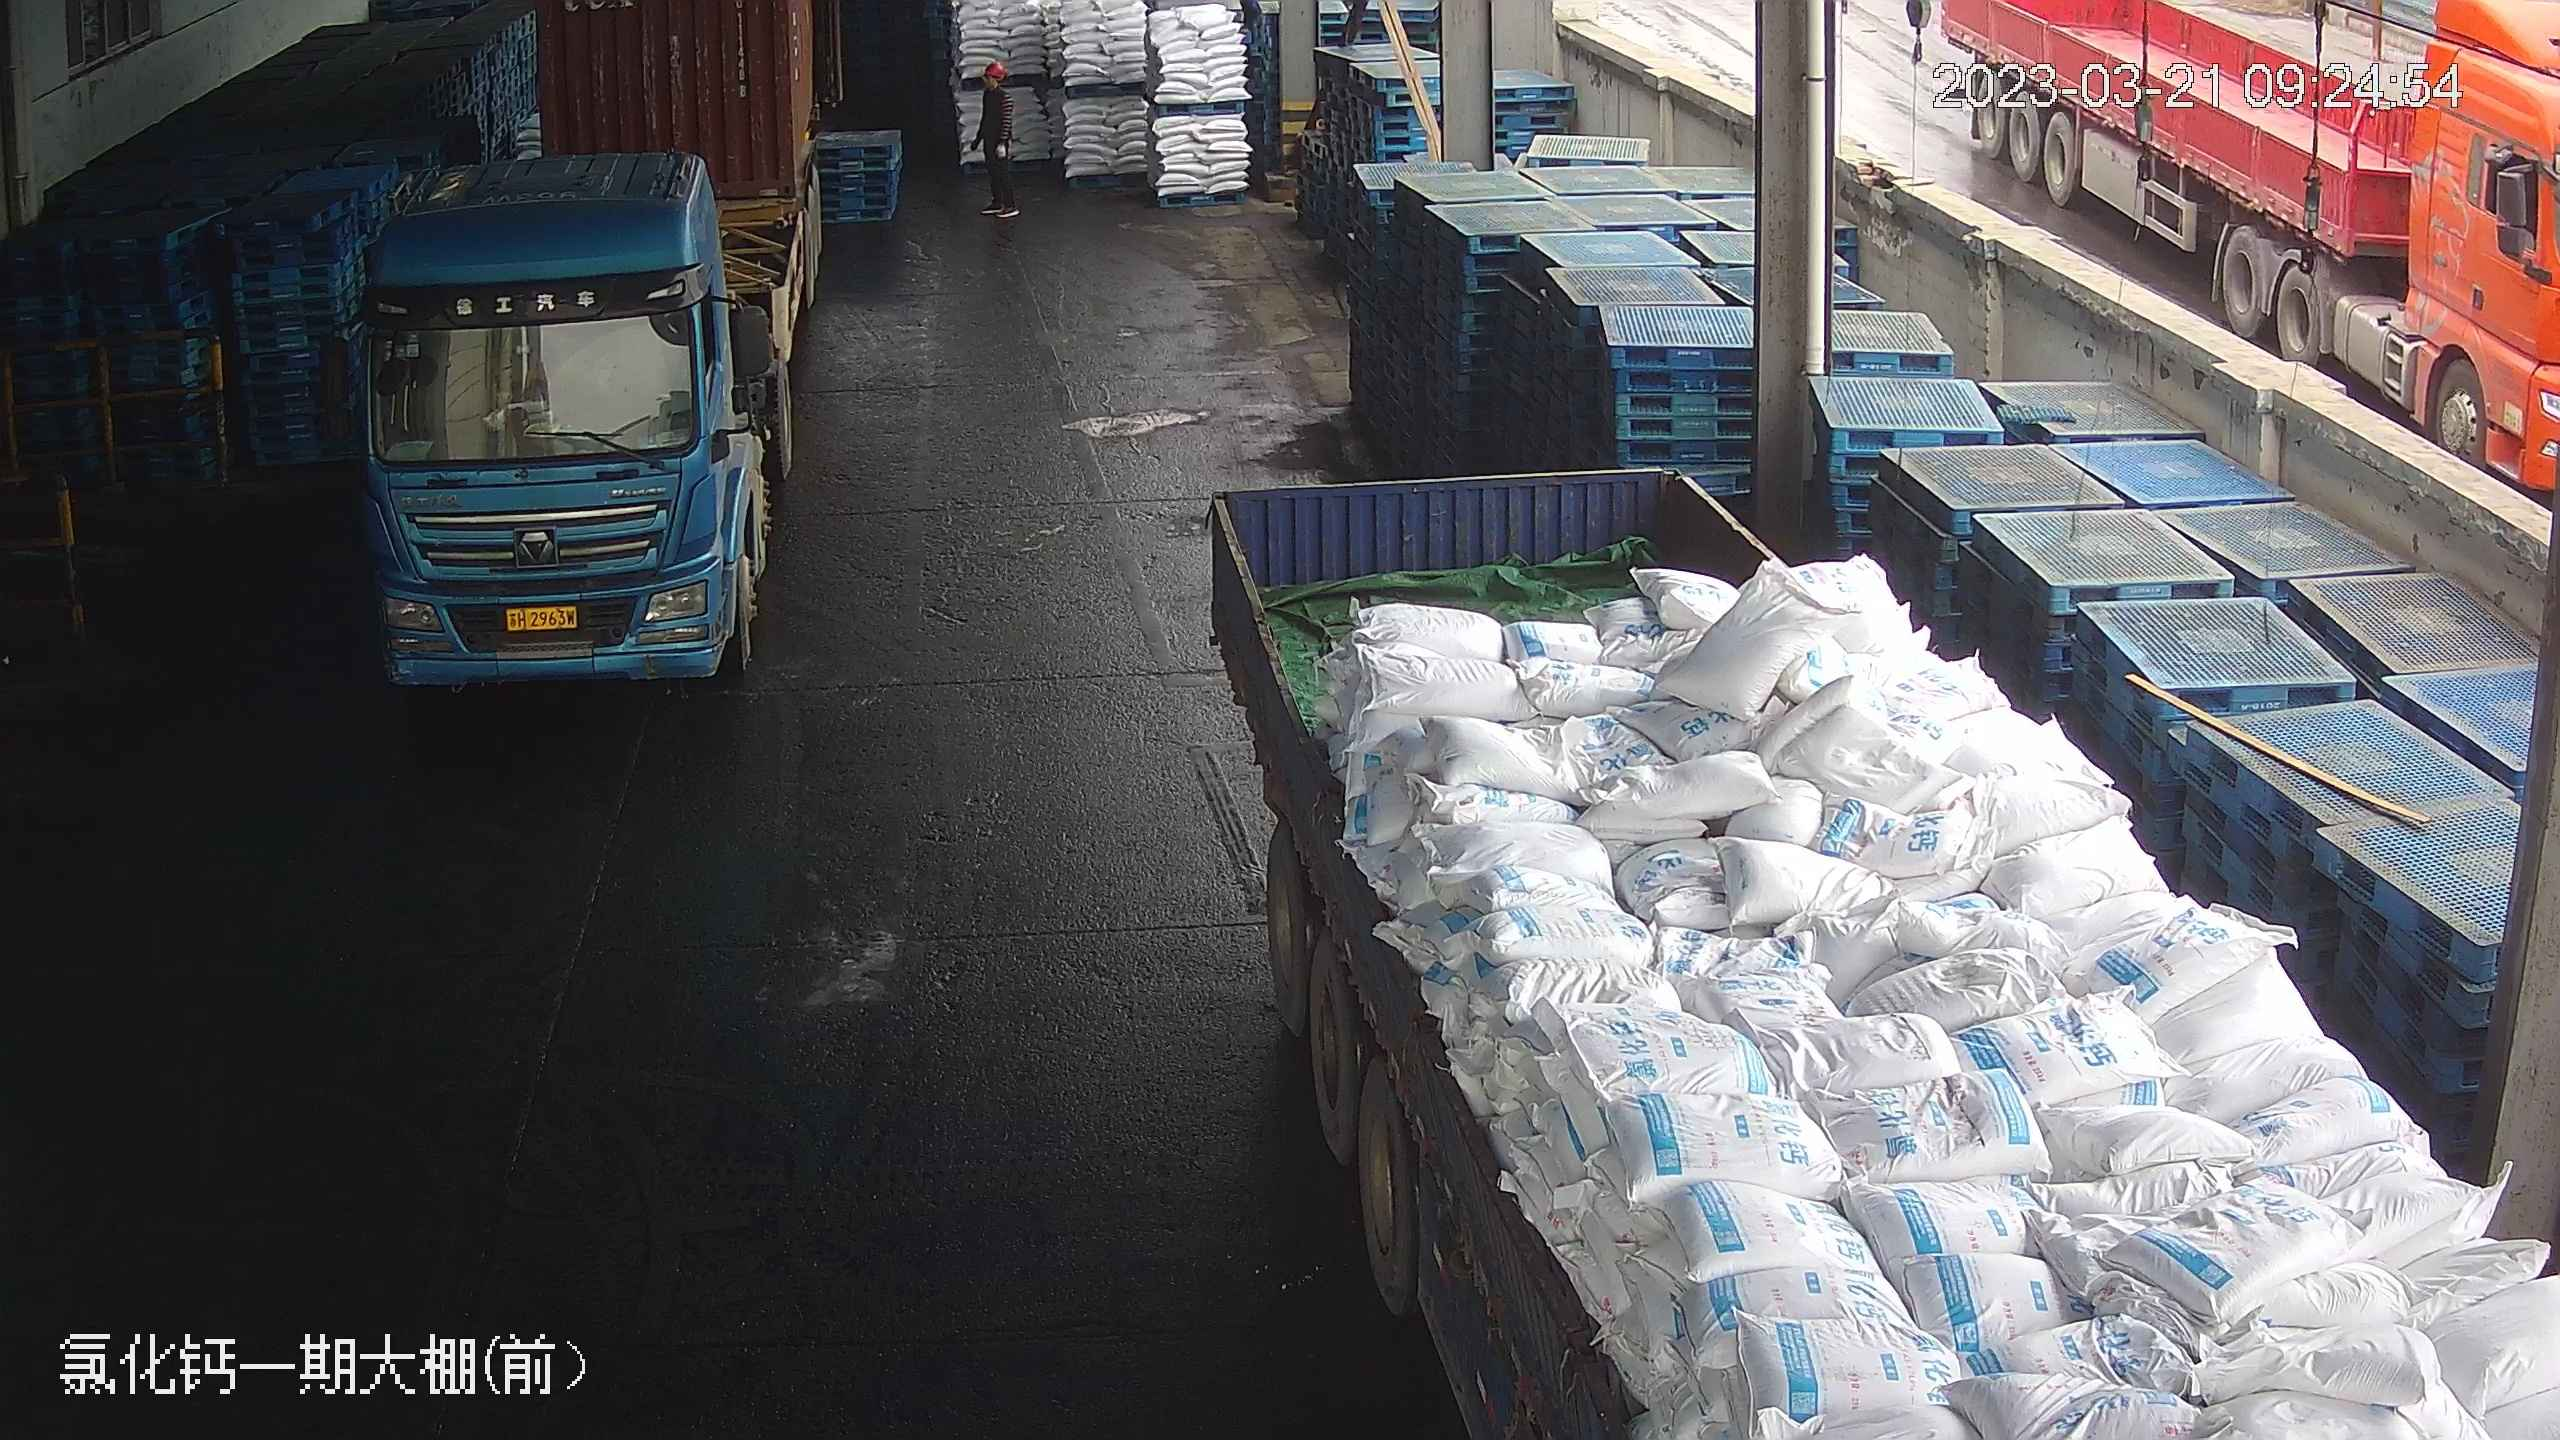head: (977, 56, 1013, 102)
helmet: (982, 60, 1007, 79)
people: (978, 56, 1024, 221)
truck: (1192, 407, 2508, 1429), (329, 1, 826, 688)
